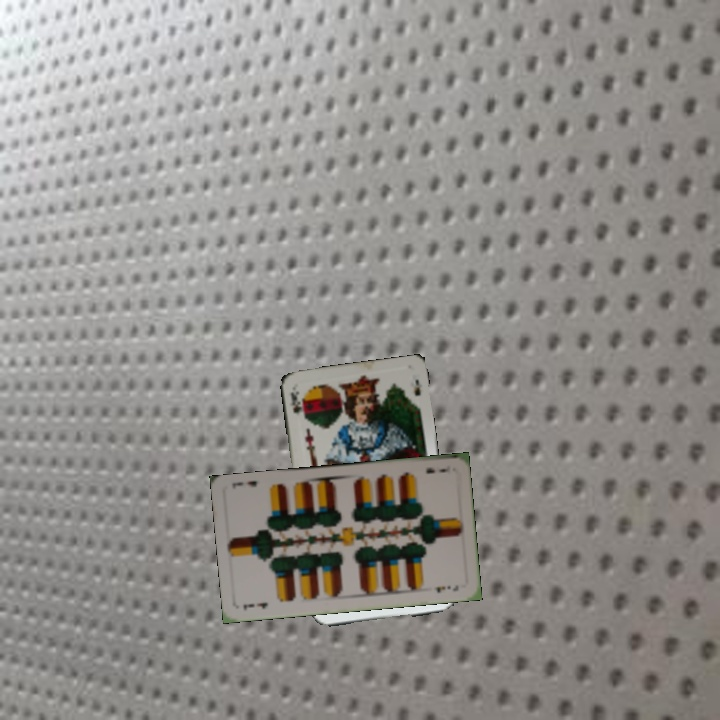E7: (422, 461, 453, 477), (239, 598, 270, 613)
SK: (286, 387, 307, 421)
